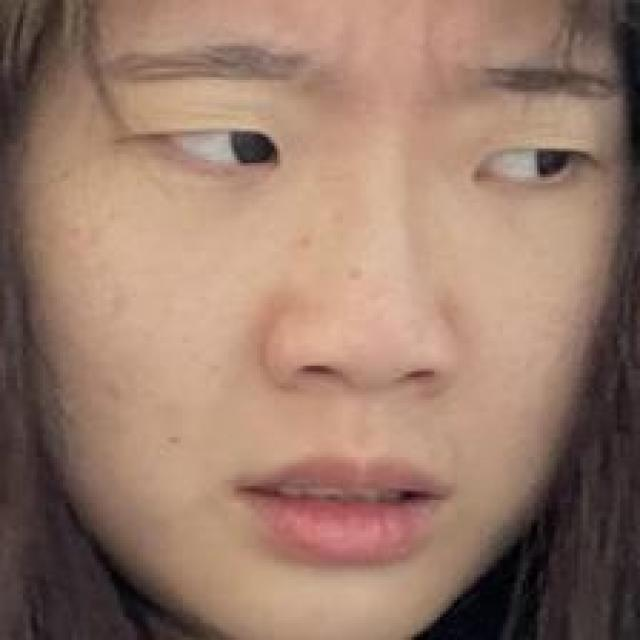fear: (88, 25, 613, 580)
